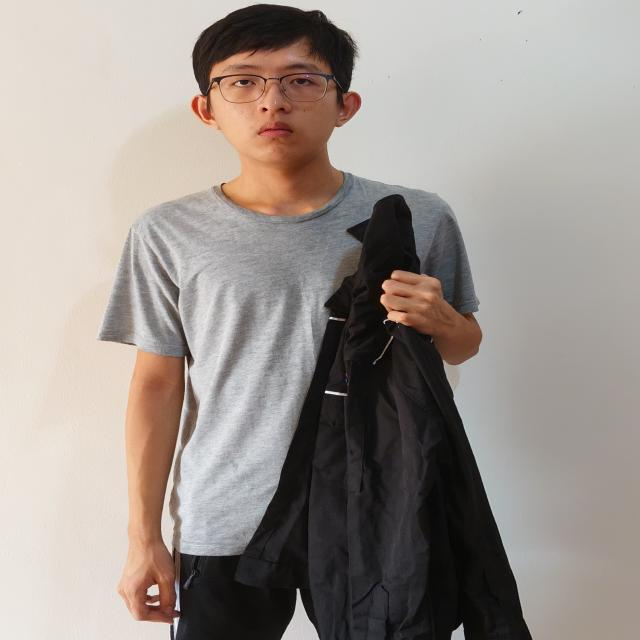person_without_labcoat: (99, 5, 531, 640)
